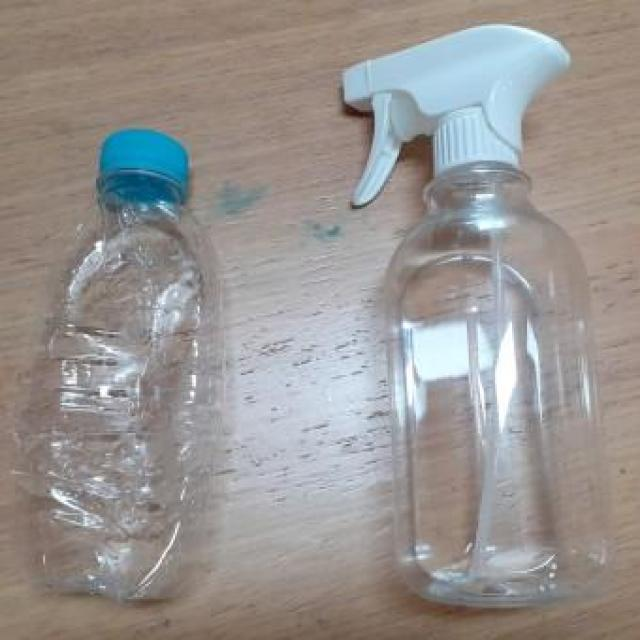bottle: (6, 100, 254, 622)
